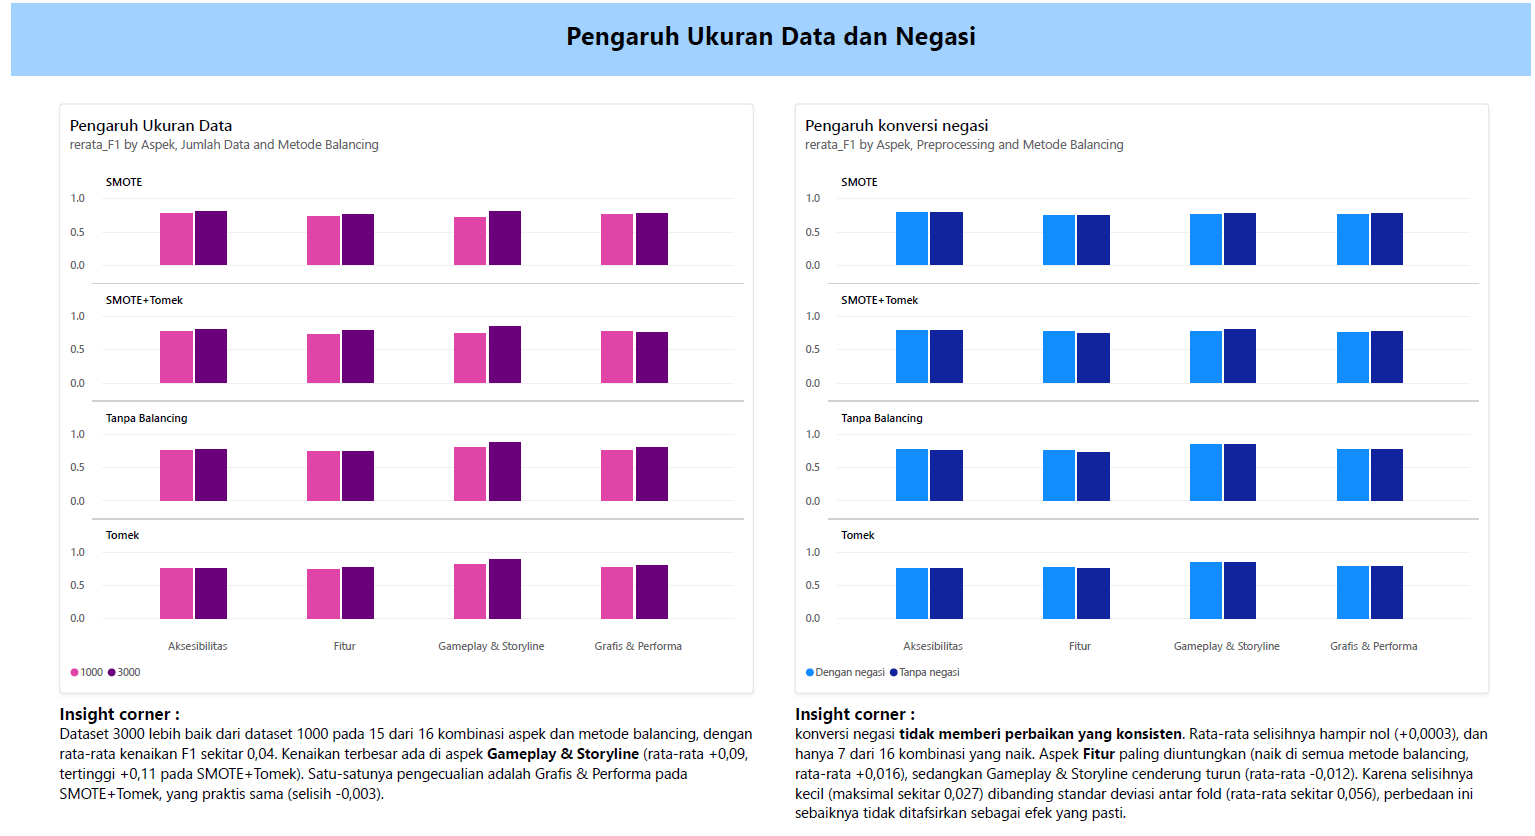

The page's visual inventory and layout, read from the dashboard file:
{"tool":"powerbi","page":{"name":"Pengaruh ukuran data dan negasi","canvas":[1920,1080],"ordinal":1},"visuals":[{"type":"clusteredColumnChart","title":"Pengaruh Ukuran Data","fields":{"Category":["Data Lengkap.Aspek"],"Rows":["Data Lengkap.Metode Balancing"],"Series":["Data Lengkap.Jumlah Data"],"Y":["Data Lengkap.rerata_F1"]},"box":[60,126,878,746],"z":0},{"type":"clusteredColumnChart","title":"Pengaruh konversi negasi","fields":{"Category":["Data Lengkap.Aspek"],"Rows":["Data Lengkap.Metode Balancing"],"Series":["Data Lengkap.Preprocessing"],"Y":["Data Lengkap.rerata_F1"]},"box":[990,126,878,746],"z":1000},{"type":"textbox","box":[0,0,1920,90],"z":1001},{"type":"textbox","box":[60,882,878,134],"z":1002},{"type":"textbox","box":[990,882,878,166],"z":1003}]}

Visuals, with their boxes on the page's 1920x1080 design canvas (x1, y1, x2, y2). These are canvas units, not pixel positions in the 1535x836 screenshot, which may show the page scaled, cropped or inside an application window:
"Pengaruh Ukuran Data" clusteredColumnChart: pyautogui.locateOnScreen(60, 126, 938, 872)
"Pengaruh konversi negasi" clusteredColumnChart: pyautogui.locateOnScreen(990, 126, 1868, 872)
textbox: pyautogui.locateOnScreen(0, 0, 1920, 90)
textbox: pyautogui.locateOnScreen(60, 882, 938, 1016)
textbox: pyautogui.locateOnScreen(990, 882, 1868, 1048)
